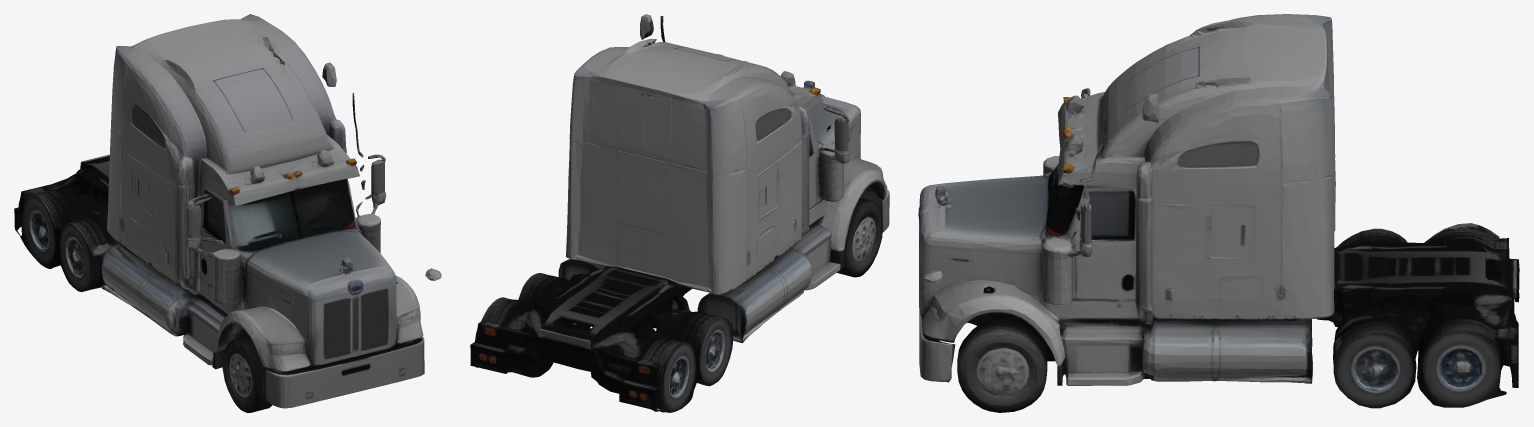
The model's file is truck.glb.
3 views of the same model, side by side, from view 1: azimuth 30°, elevation 25°; view 2: azimuth 150°, elevation 25°; view 3: azimuth 270°, elevation 25° (orthographic). The views are drawn at different scales.
Parts seen in each view (by area): view 1: world; view 2: world; view 3: world.
Part boxes in pixels (x1,y1,x2,y2): world: [14, 14, 441, 412]; world: [470, 14, 889, 412]; world: [918, 14, 1519, 412].
Bounding box in the file's own units: 0.4575 × 0.5879 × 1.
1 material, 1 textured.
